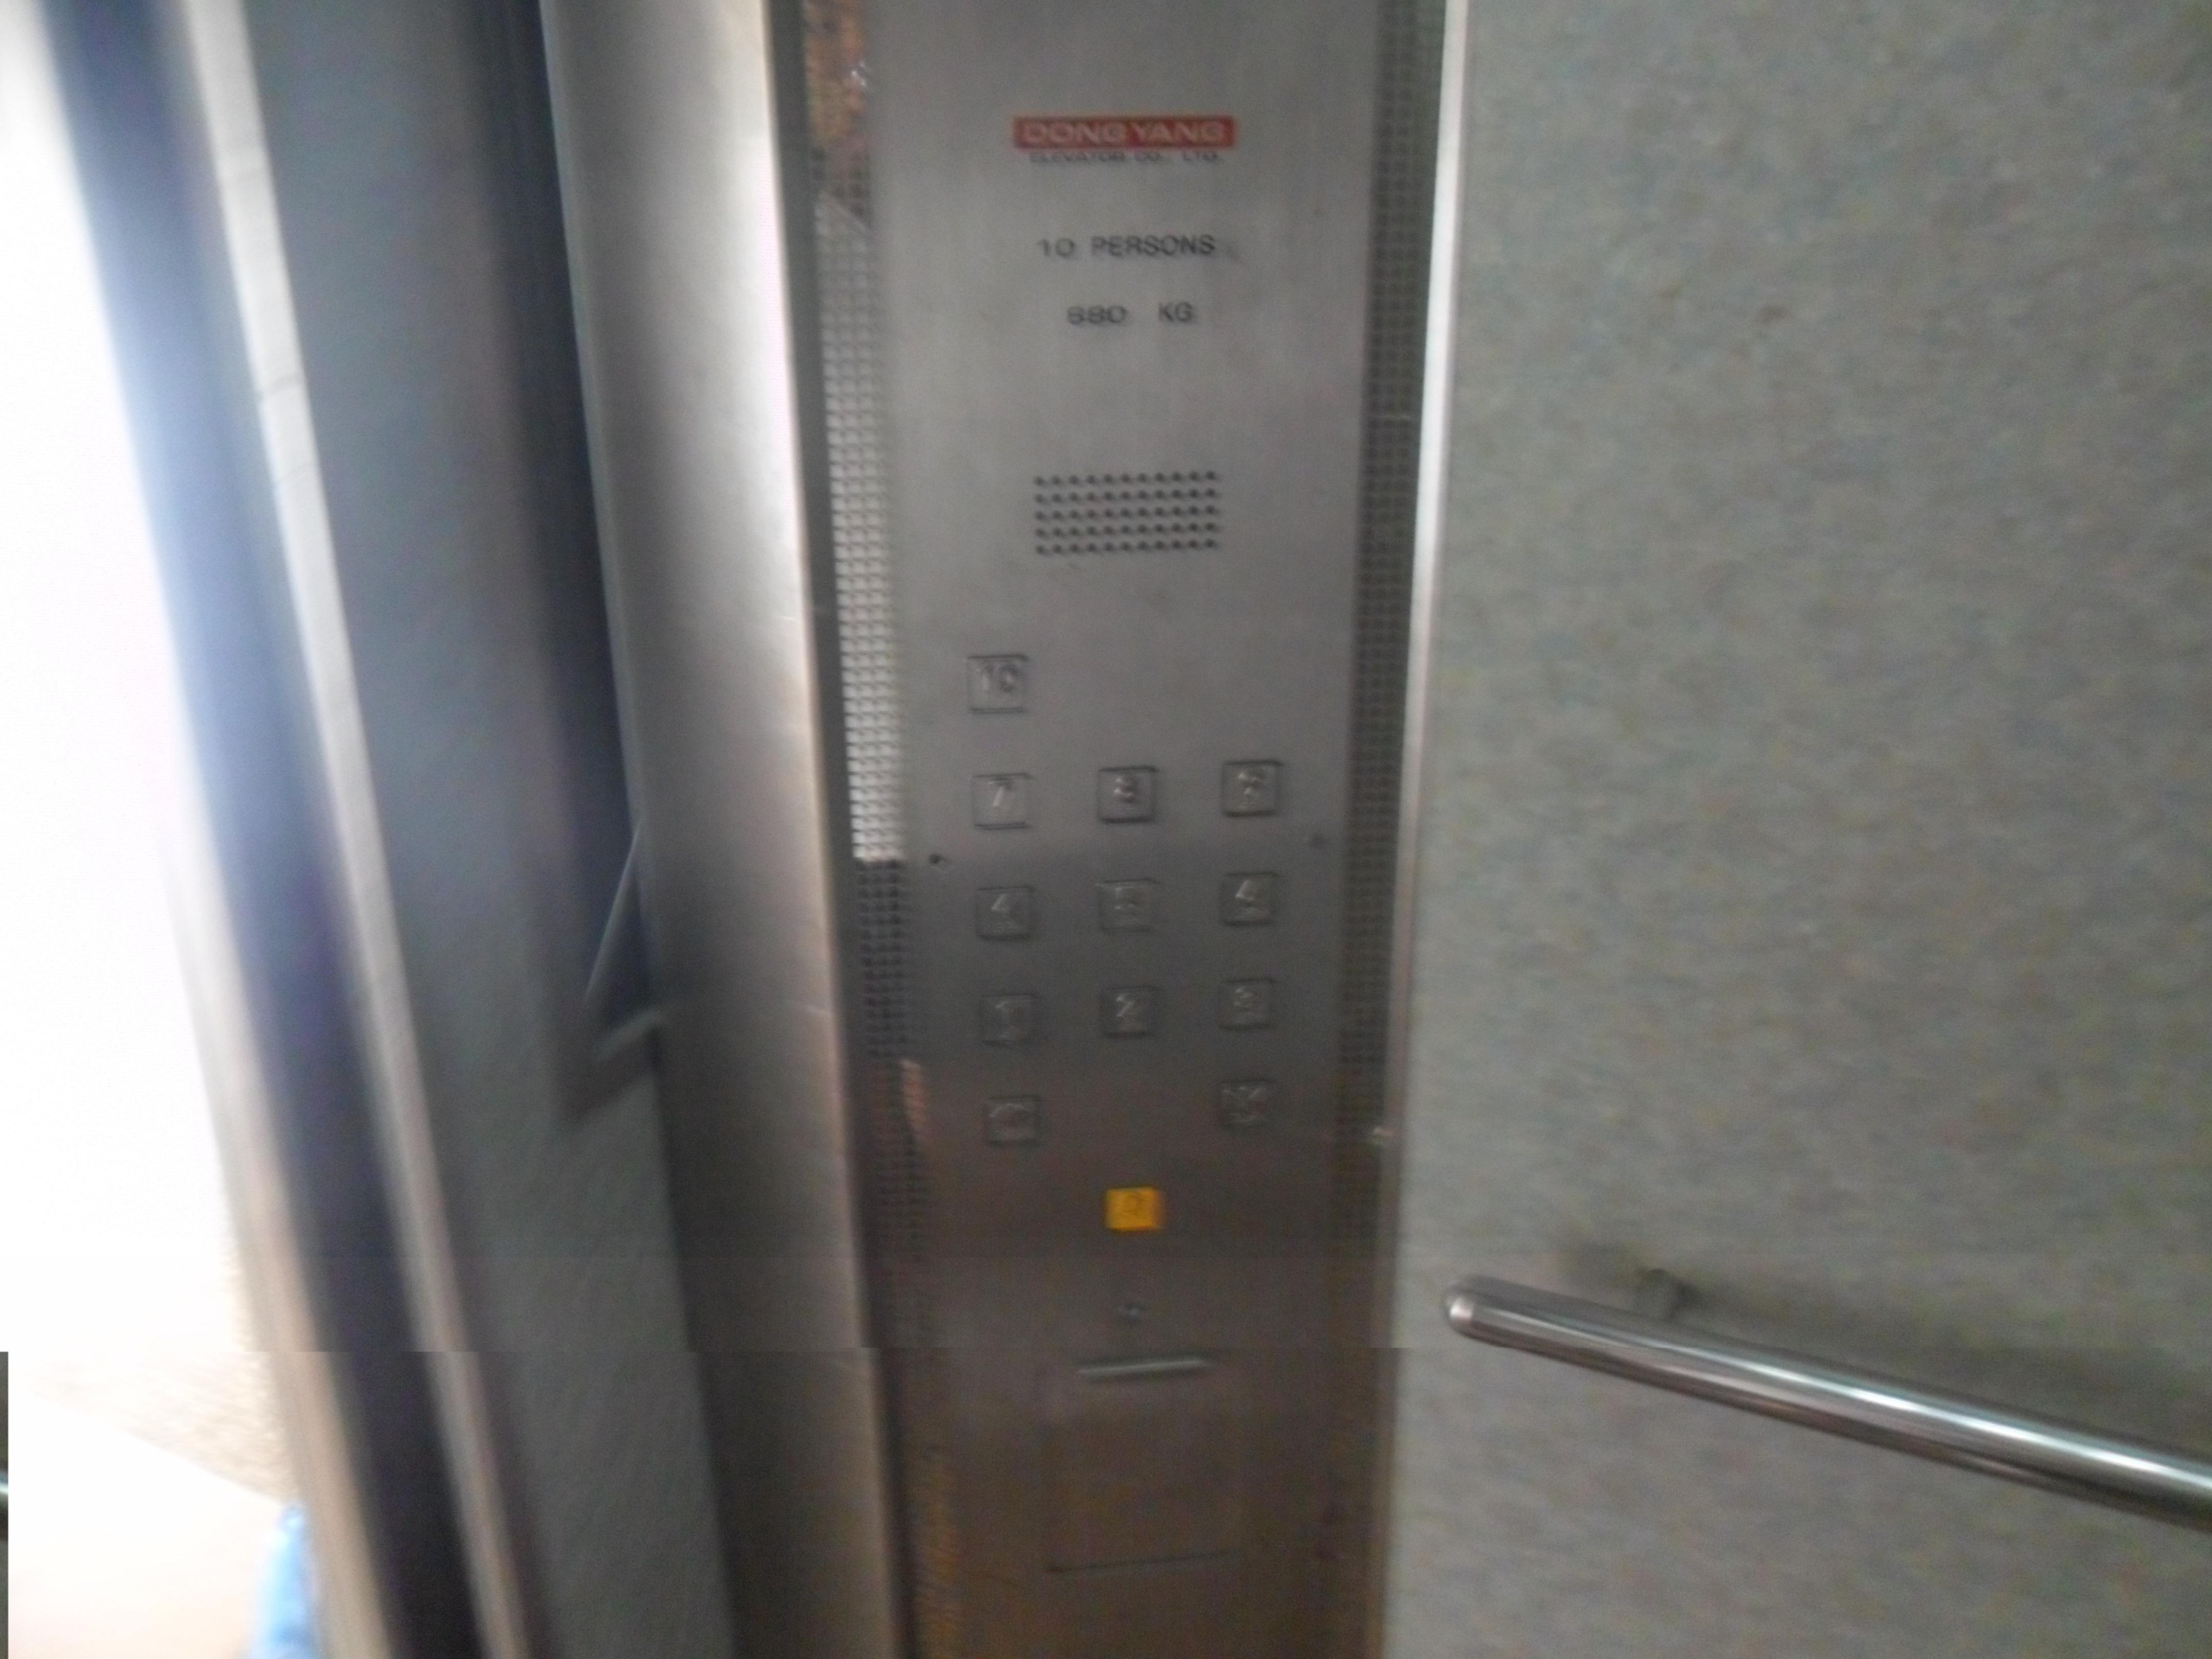1: (979, 990, 1042, 1049)
10: (961, 648, 1031, 716)
2: (1096, 981, 1160, 1044)
3: (1214, 972, 1278, 1035)
4: (972, 882, 1038, 945)
5: (1094, 877, 1160, 939)
7: (968, 769, 1035, 833)
8: (1092, 765, 1160, 828)
9: (1214, 758, 1282, 821)
blur: (1216, 870, 1278, 931), (1101, 1183, 1167, 1241)
close: (1212, 1079, 1273, 1134)
open: (979, 1094, 1040, 1148)
